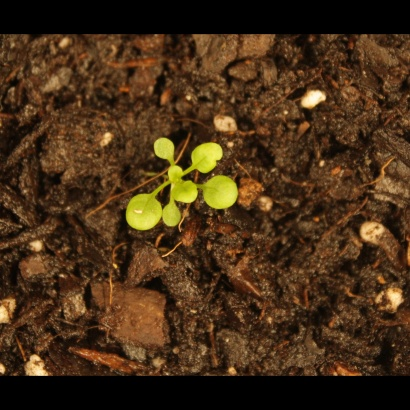leaf: (124, 189, 164, 233), (202, 174, 239, 212), (188, 141, 227, 176), (166, 180, 200, 207), (148, 135, 181, 162), (158, 202, 186, 231), (163, 161, 191, 186)
